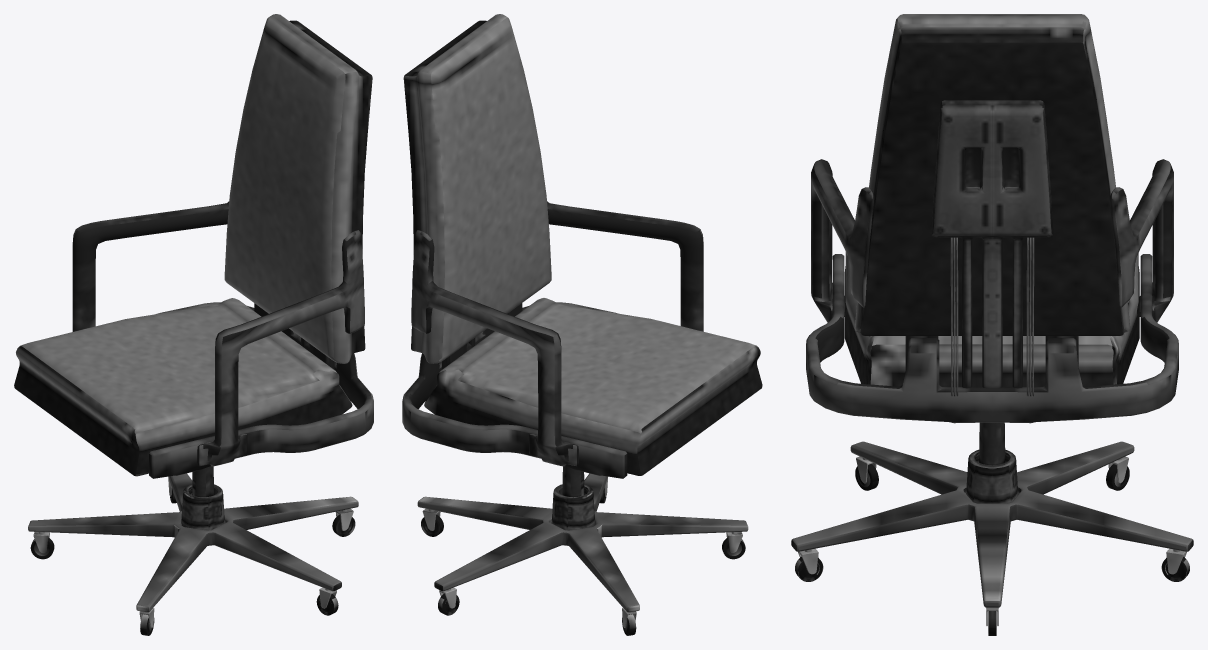
The model's file is Office_Chair.fbx.
The picture shows the model from 3 angles, left to right: view 1: azimuth 30°, elevation 25°; view 2: azimuth 150°, elevation 25°; view 3: azimuth 270°, elevation 25°; orthographic projection. The views are drawn at different scales.
Parts seen in each view (by area): view 1: Office_Chair; view 2: Office_Chair; view 3: Office_Chair.
Part boxes in pixels (left/top/right/bottom): Office_Chair: left=14, top=14, right=373, bottom=635; Office_Chair: left=402, top=14, right=762, bottom=635; Office_Chair: left=791, top=14, right=1193, bottom=635.
Size of the model in its own units: 1.57 by 2.66 by 1.61.
